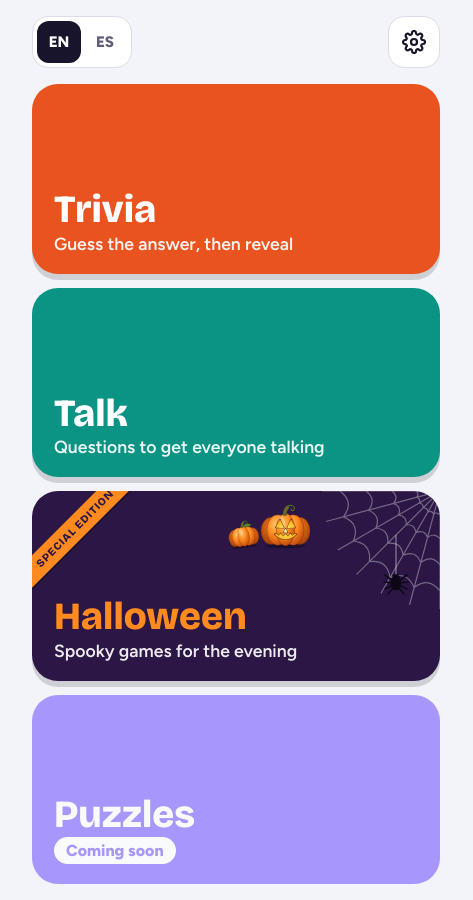
Scenario: Halloween menu › opens from Home and lists the four games
The width and height of the screenshot is (473, 900).
Click the button "Halloween Spooky games for the evening Special edition" at (150, 616), box [32,491,440,680]
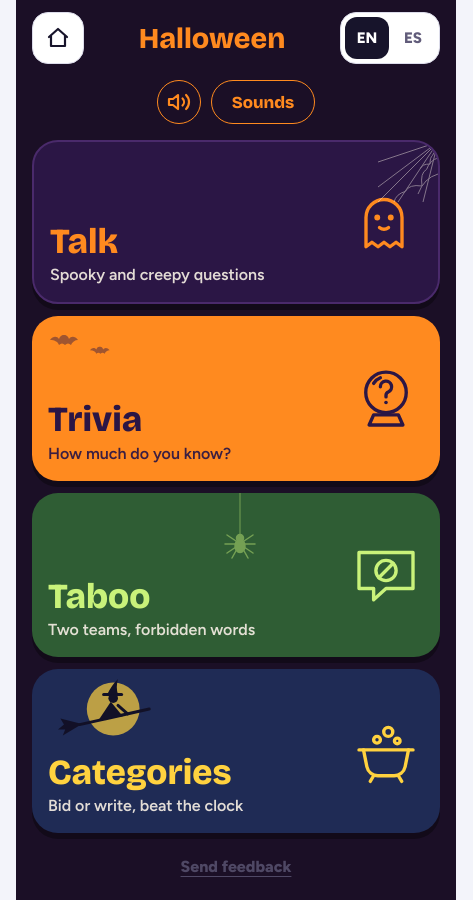
Click the button named "Home" at (58, 38), box [32,12,84,64]
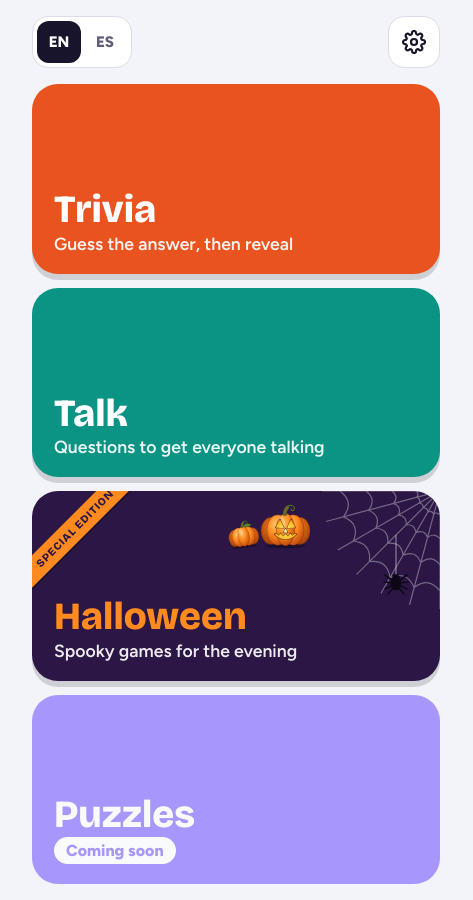
expect the navigation bar named "Modes" is shown: met
